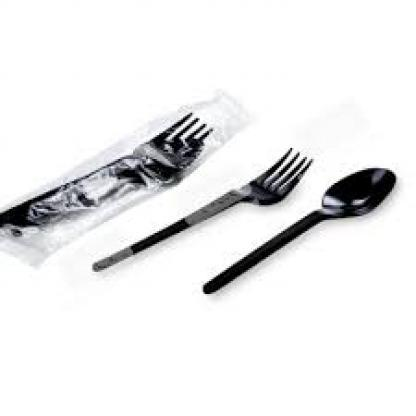Others: (0, 112, 400, 295)
